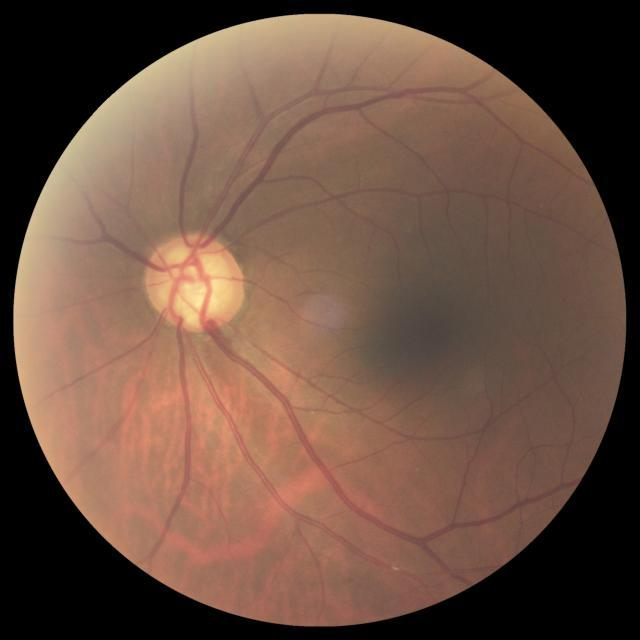OC: (171, 254, 220, 322)
OD: (144, 231, 246, 332)
